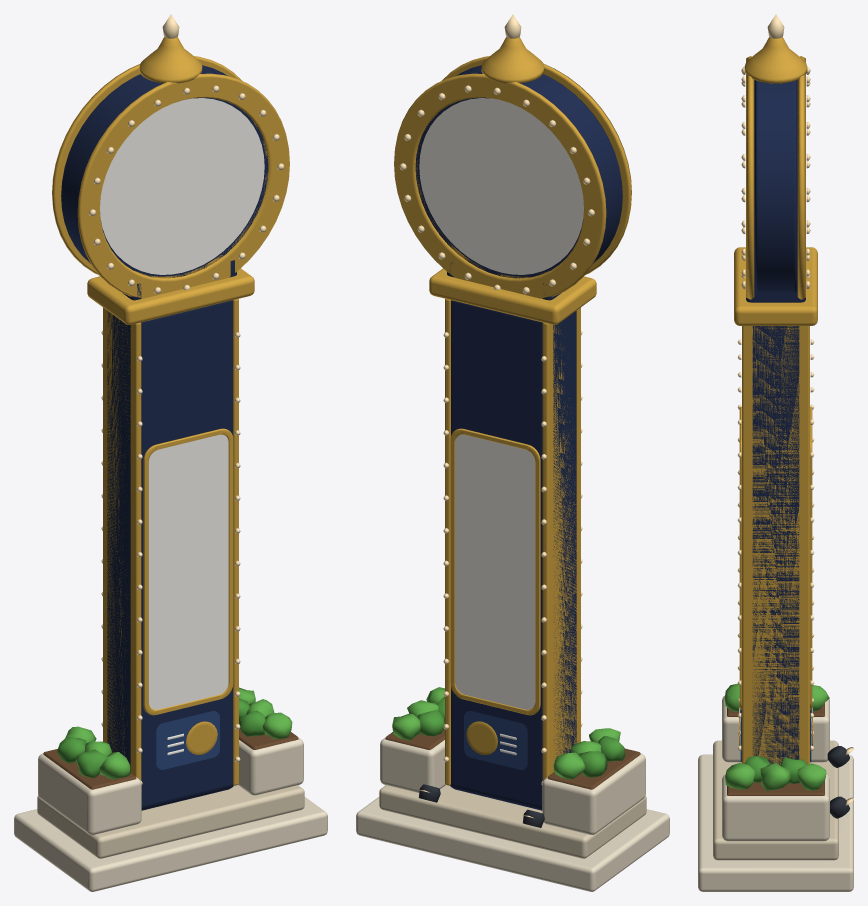
Rendered from RedeTotem.fbx.
3 renders of one model, left to right at view 1: azimuth 30°, elevation 25°; view 2: azimuth 150°, elevation 25°; view 3: azimuth 270°, elevation 25°, orthographic.
Visible parts, largest first — view 1: RedeTotem_Body.003; view 2: RedeTotem_Body.003; view 3: RedeTotem_Body.003.
Part boxes in pixels (bbox=[...]): RedeTotem_Body.003: bbox=[14, 14, 327, 891]; RedeTotem_Body.003: bbox=[356, 14, 669, 891]; RedeTotem_Body.003: bbox=[698, 14, 853, 891].
Bounding box in the file's own units: 2.3 × 7.56 × 1.3.
